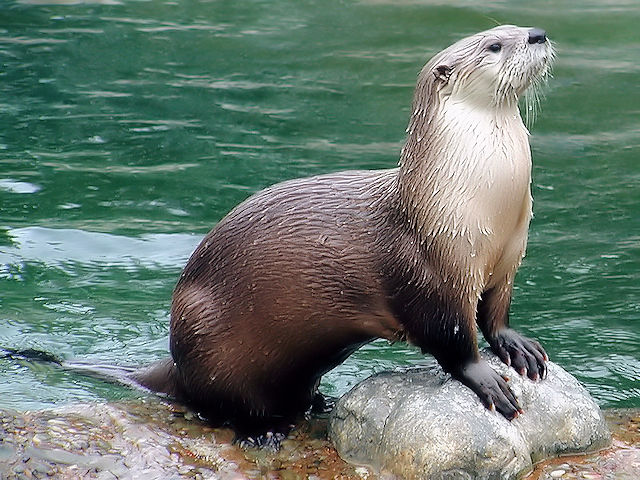otter: (144, 12, 574, 438)
